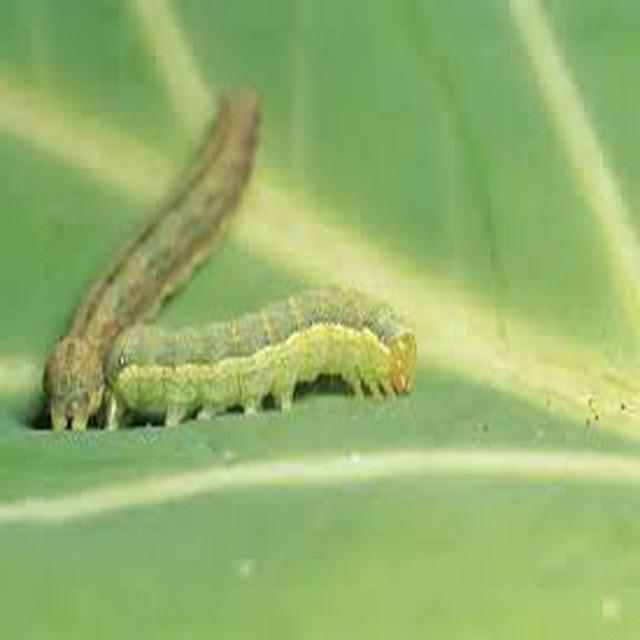gusano_cogollero: (42, 91, 276, 424), (111, 282, 416, 424)
